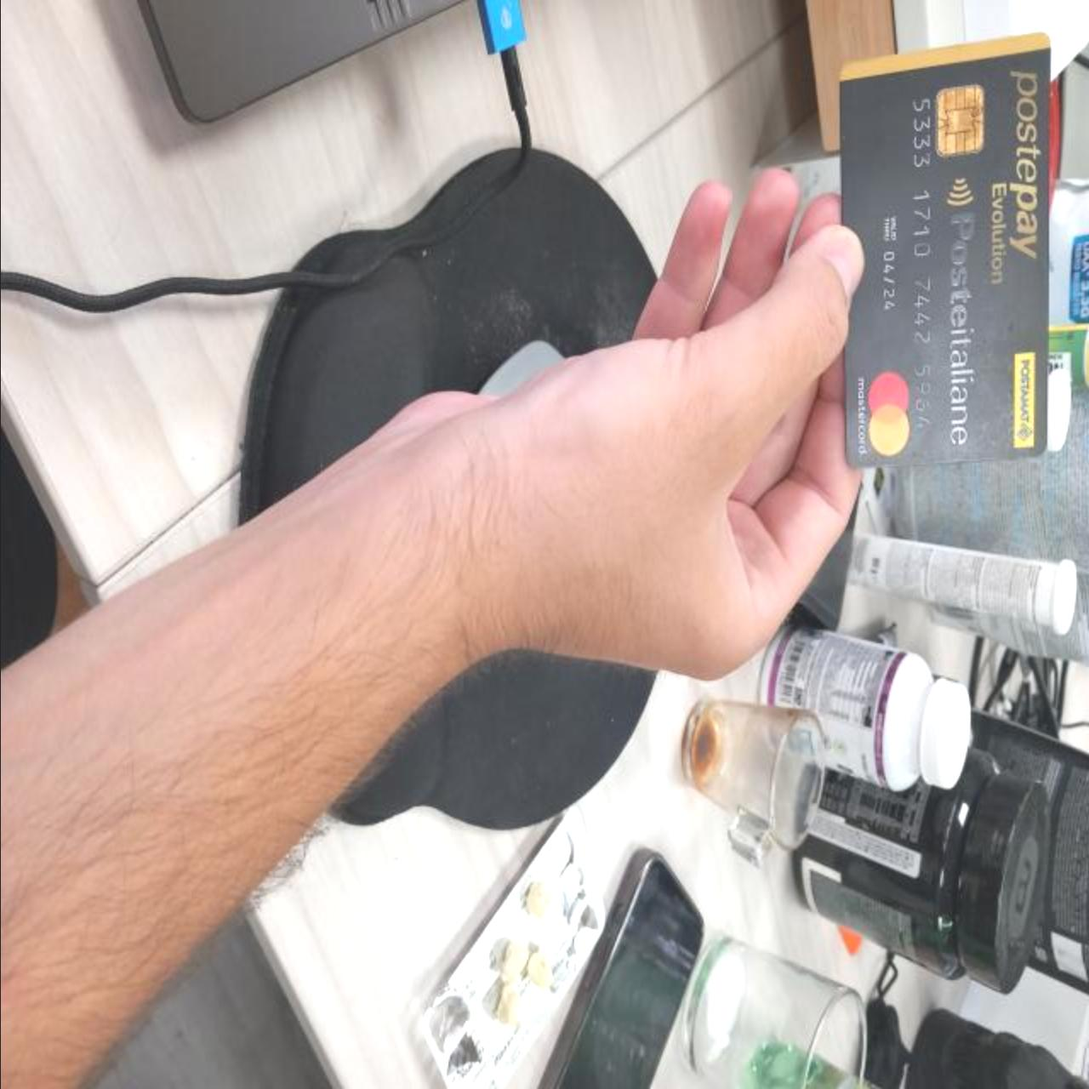credit_card: (830, 31, 1058, 480)
